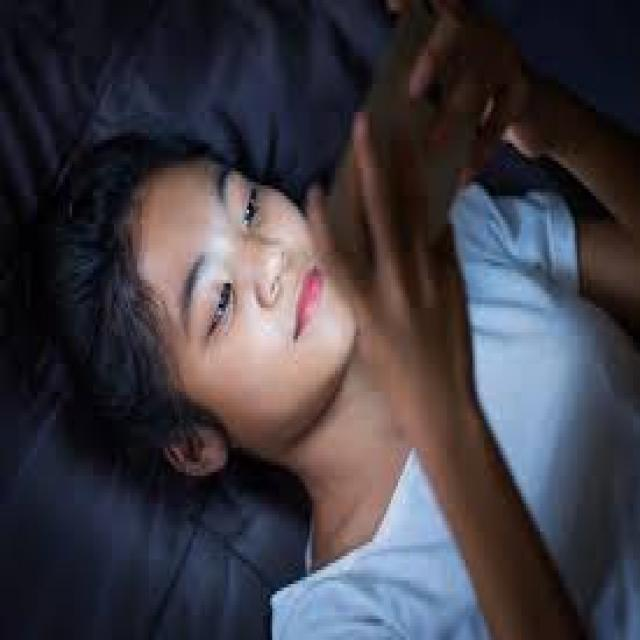Phone: (322, 10, 486, 292)
